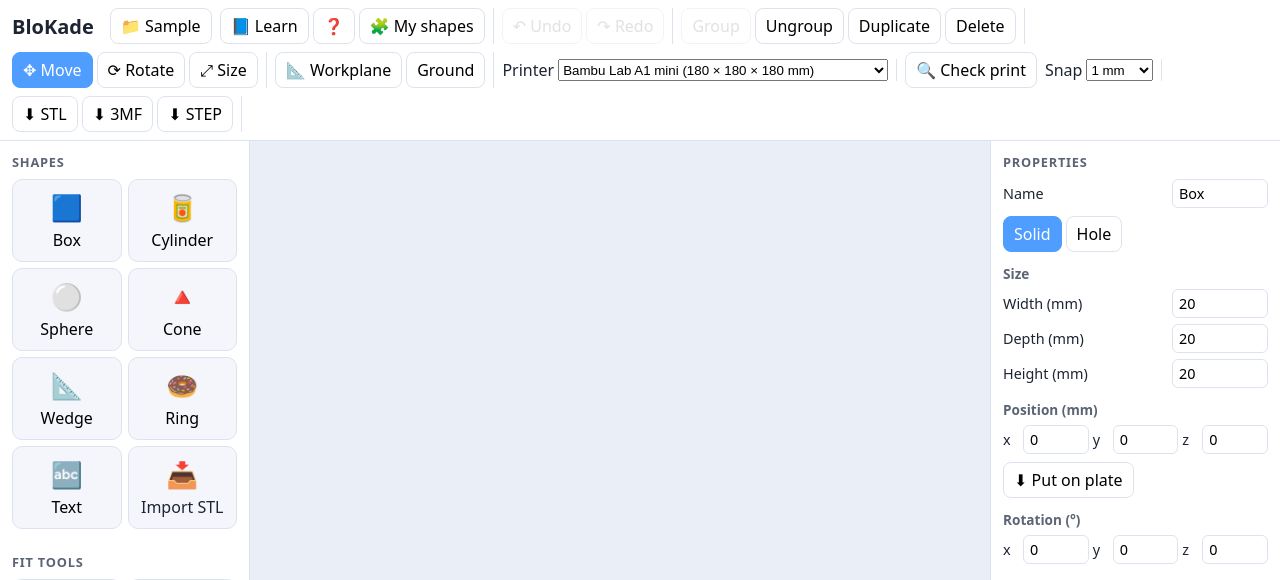
Test case: help mode in the whole app › never changes the design, the selection or the tool
This screenshot has width=1280, height=580.
Click the button with test id "help-mode".
click(334, 26)  # box left=313, top=8, right=355, bottom=44
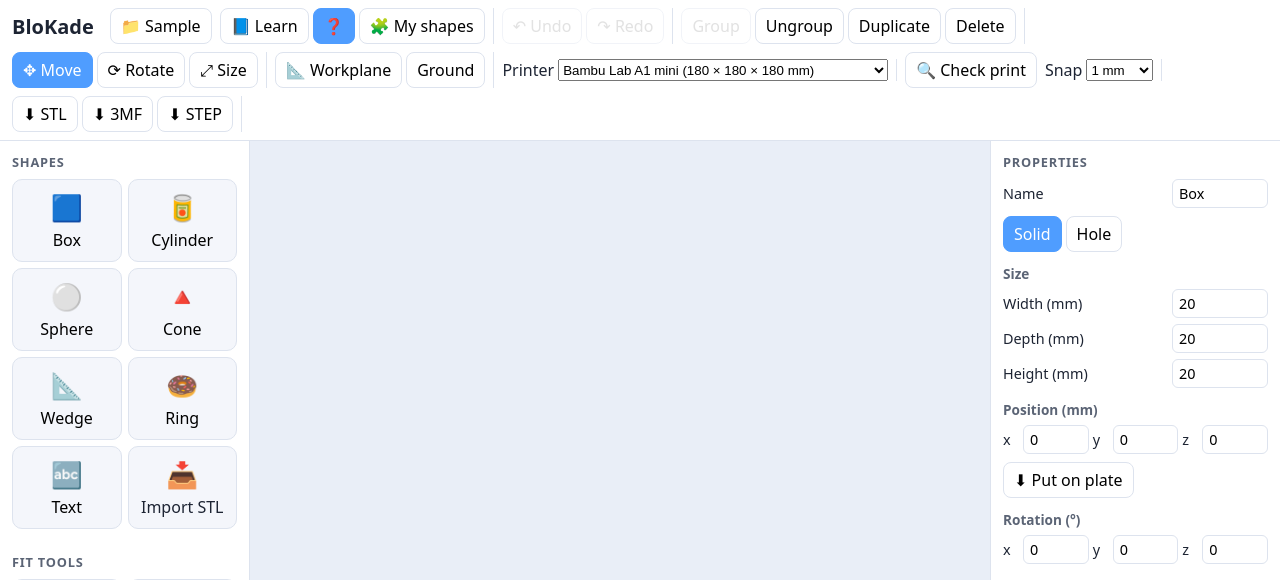
Press Delete
Click the button with test id "add-box".
click(67, 220)  # box left=12, top=179, right=122, bottom=262
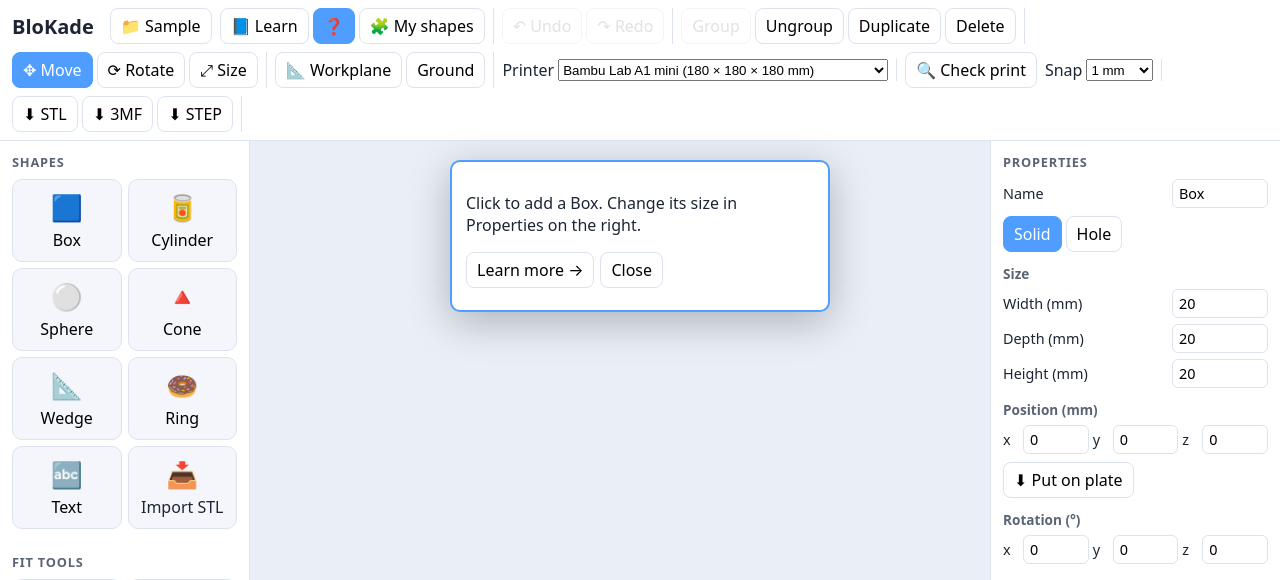
Click the button with test id "delete".
click(980, 26)  # box left=945, top=8, right=1016, bottom=44
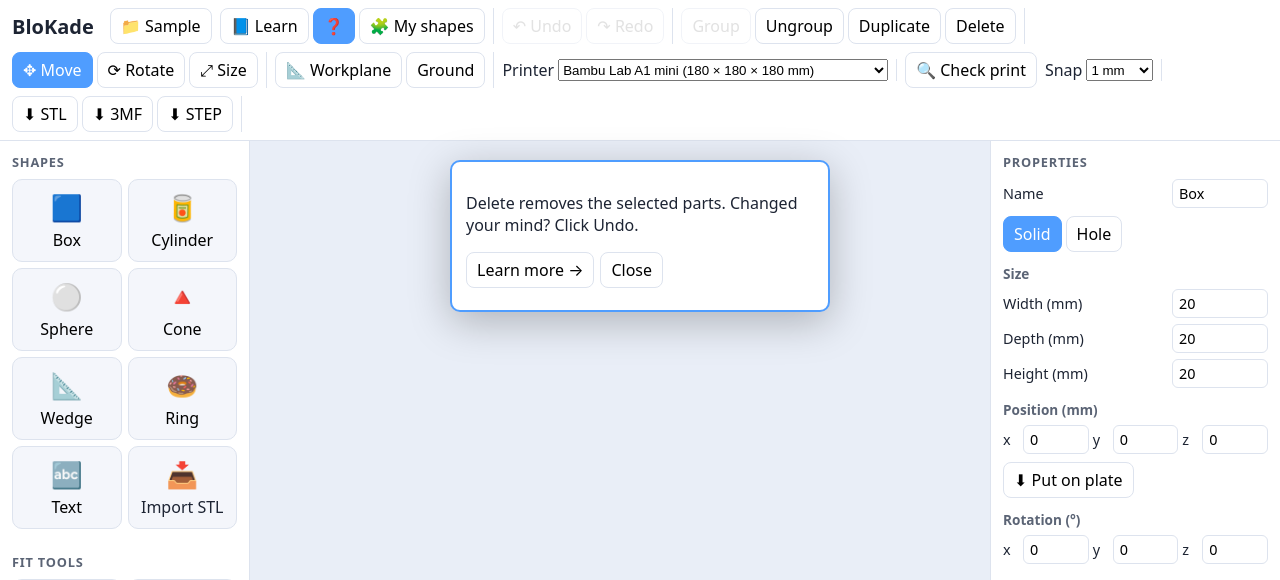
Press Escape
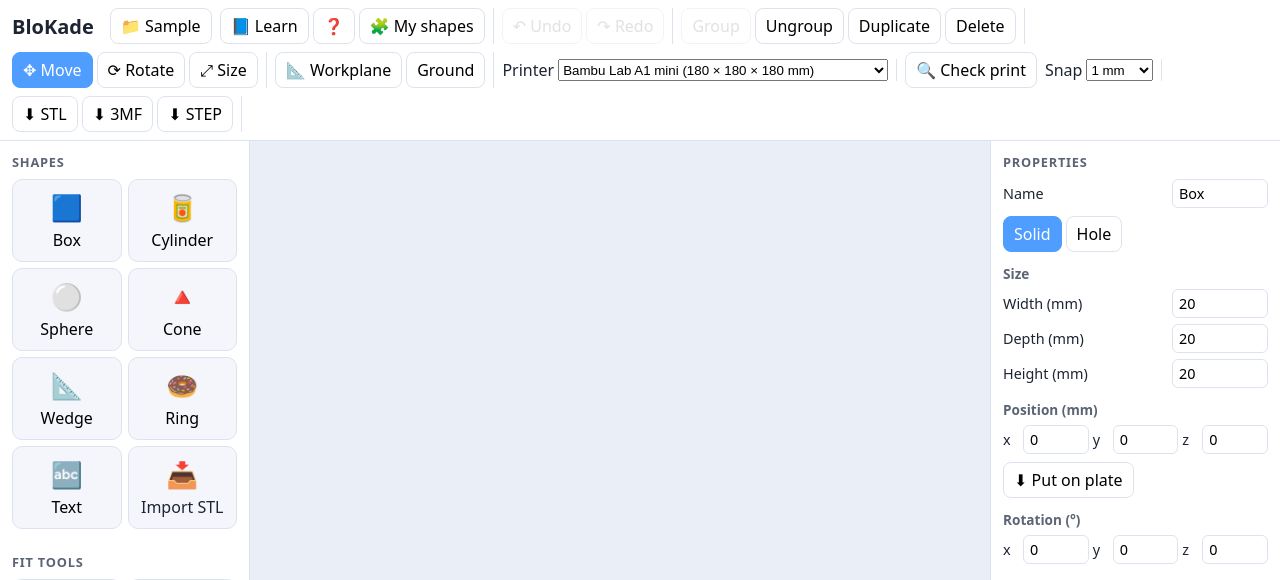
Now the dialog with test id "help-card" is gone
